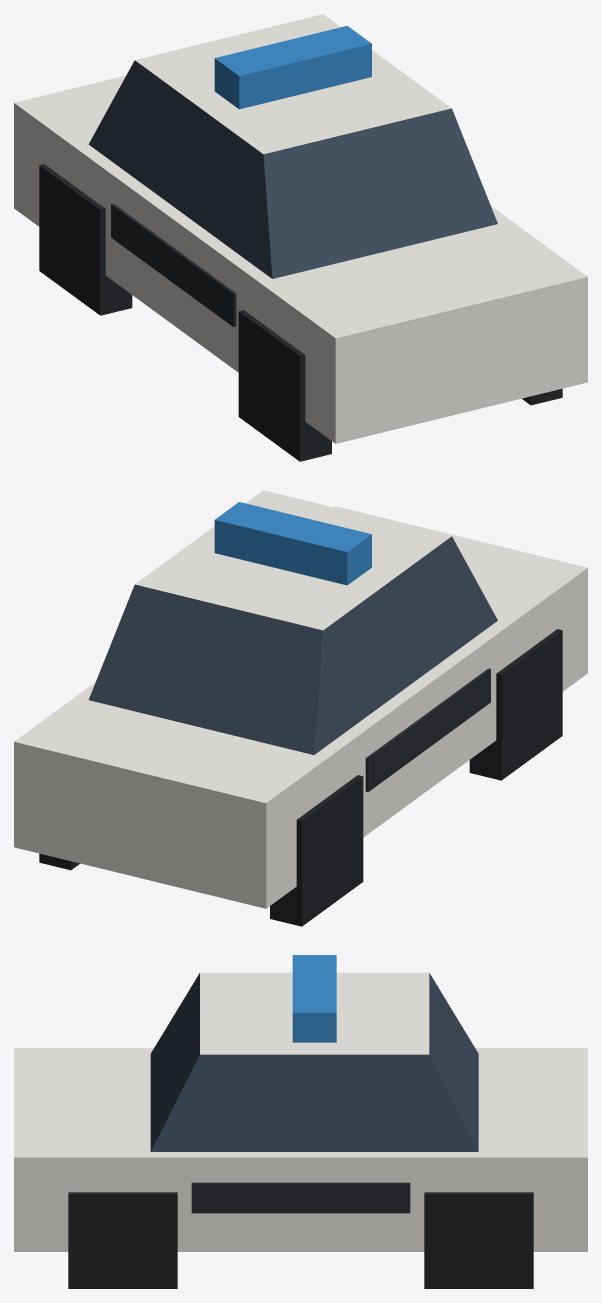
Rendered from V_Police.fbx.
3 views of the same model, one above another, from view 1: azimuth 30°, elevation 25°; view 2: azimuth 150°, elevation 25°; view 3: azimuth 270°, elevation 25° (orthographic). The views are drawn at different scales.
Visible parts, largest first — view 1: V_Police.002; view 2: V_Police.002; view 3: V_Police.002.
Part boxes in pixels (x1,y1,x2,y2): V_Police.002: [14, 14, 587, 461]; V_Police.002: [14, 490, 587, 926]; V_Police.002: [14, 955, 587, 1288].
Bounding box in the file's own units: 0.99 × 1 × 2.1.
